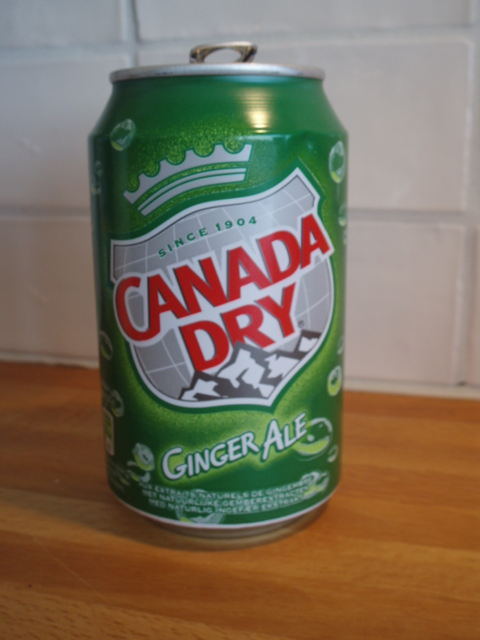Lata: (83, 30, 356, 553)
